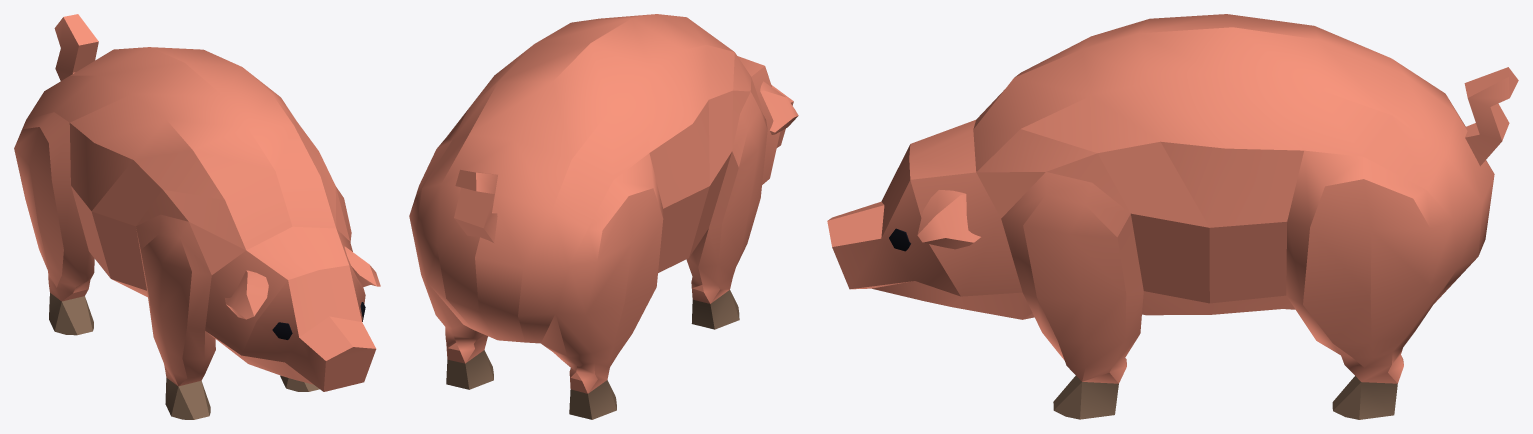
File: Pig.fbx
3 renders of one model, left to right at view 1: azimuth 30°, elevation 25°; view 2: azimuth 150°, elevation 25°; view 3: azimuth 270°, elevation 25°, orthographic. The views are drawn at different scales.
Visible parts, largest first — view 1: Pig; view 2: Pig; view 3: Pig.
Boxes of the visible parts, left/top/right/bottom form: Pig: left=14, top=14, right=380, bottom=419; Pig: left=409, top=14, right=798, bottom=419; Pig: left=827, top=14, right=1518, bottom=419.
Bounding box in the file's own units: 19.97 × 26.82 × 48.33.
